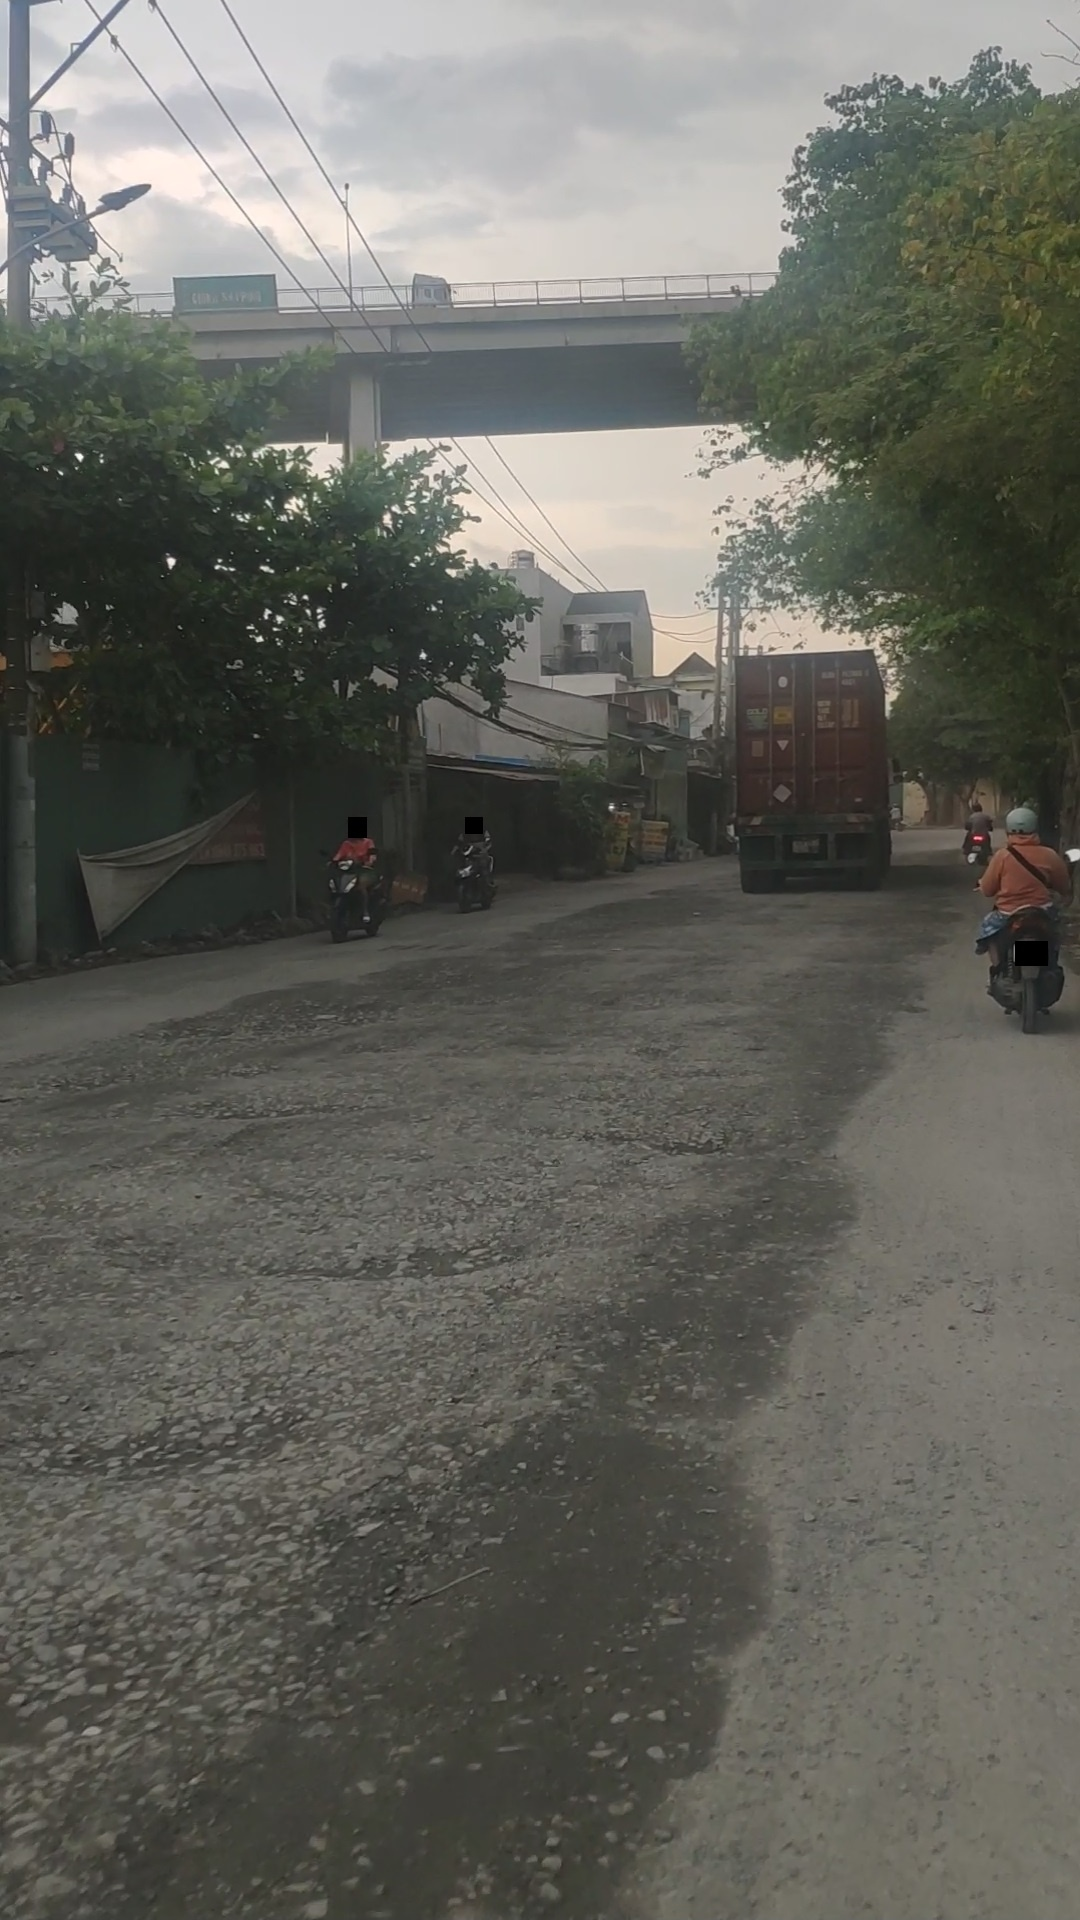hole: (1, 1379, 322, 1516), (225, 1222, 555, 1307), (124, 984, 411, 1054), (162, 1080, 406, 1127), (572, 1114, 745, 1164), (1, 1051, 138, 1109), (353, 952, 493, 996), (582, 980, 742, 1015)
